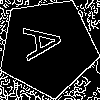A: (22, 22, 72, 62)
